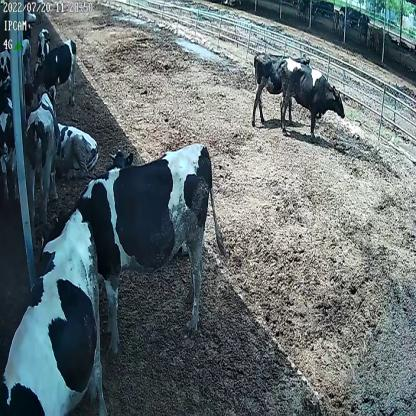cow: (47, 144, 228, 352), (3, 200, 112, 414), (278, 60, 348, 139), (251, 54, 311, 127), (26, 89, 58, 206), (32, 37, 79, 108), (34, 26, 50, 59)
